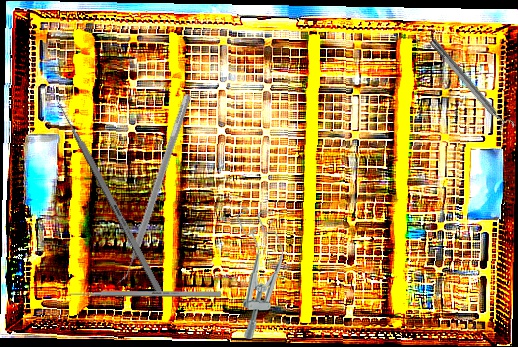Fixation Ring: (425, 34, 517, 137)
Pusher: (48, 87, 164, 295), (60, 291, 221, 297)
Spatula Surgical: (113, 90, 192, 289)
Speculum: (235, 206, 284, 340)
